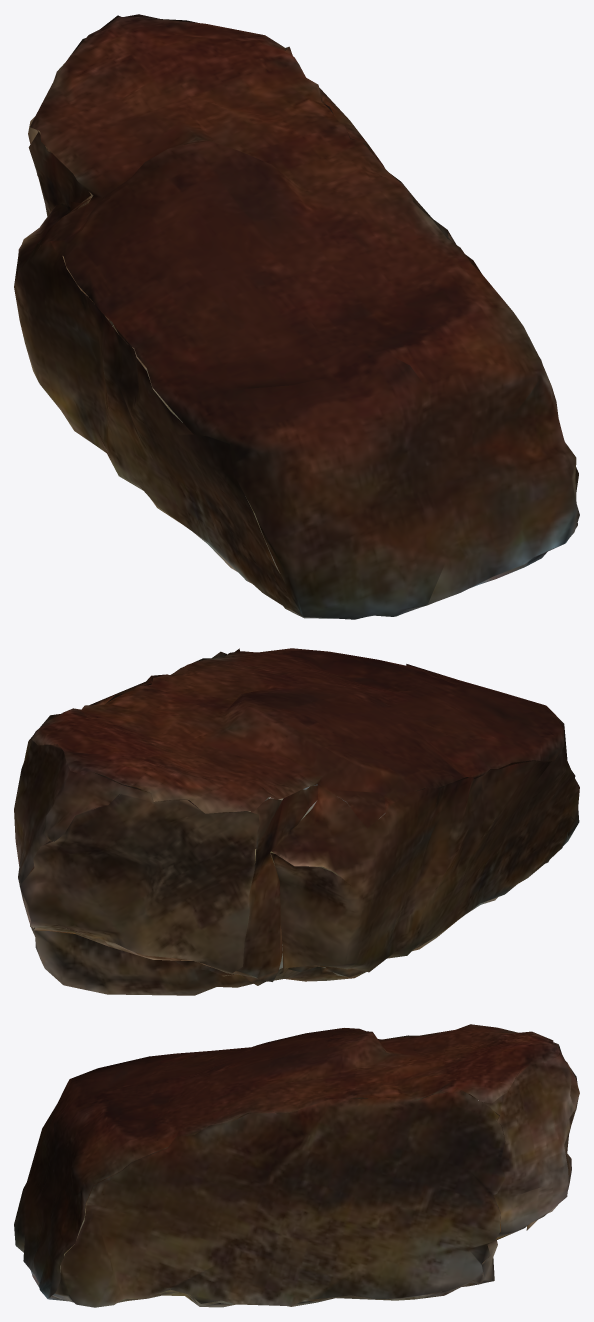
The model's file is rock_07.glb.
The picture shows the model from 3 angles, top to bottom: view 1: azimuth 30°, elevation 25°; view 2: azimuth 150°, elevation 25°; view 3: azimuth 270°, elevation 25°; orthographic projection. The views are drawn at different scales.
Parts seen in each view (by area): view 1: rock_07; view 2: rock_07; view 3: rock_07.
Boxes of the visible parts, x1,y1,x2,y2 form: rock_07: (14, 14, 579, 619); rock_07: (14, 648, 579, 995); rock_07: (14, 1024, 579, 1307).
Bounding box in the file's own units: 0.1697 × 0.1428 × 0.3208.
1 material, 1 textured.
